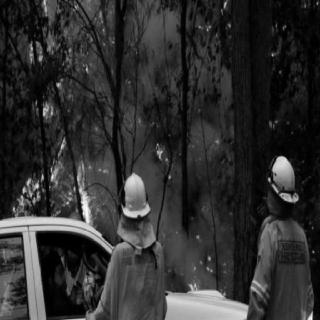Fire: (20, 0, 110, 236), (181, 230, 231, 297), (153, 128, 177, 192)
other: (256, 217, 314, 319)
